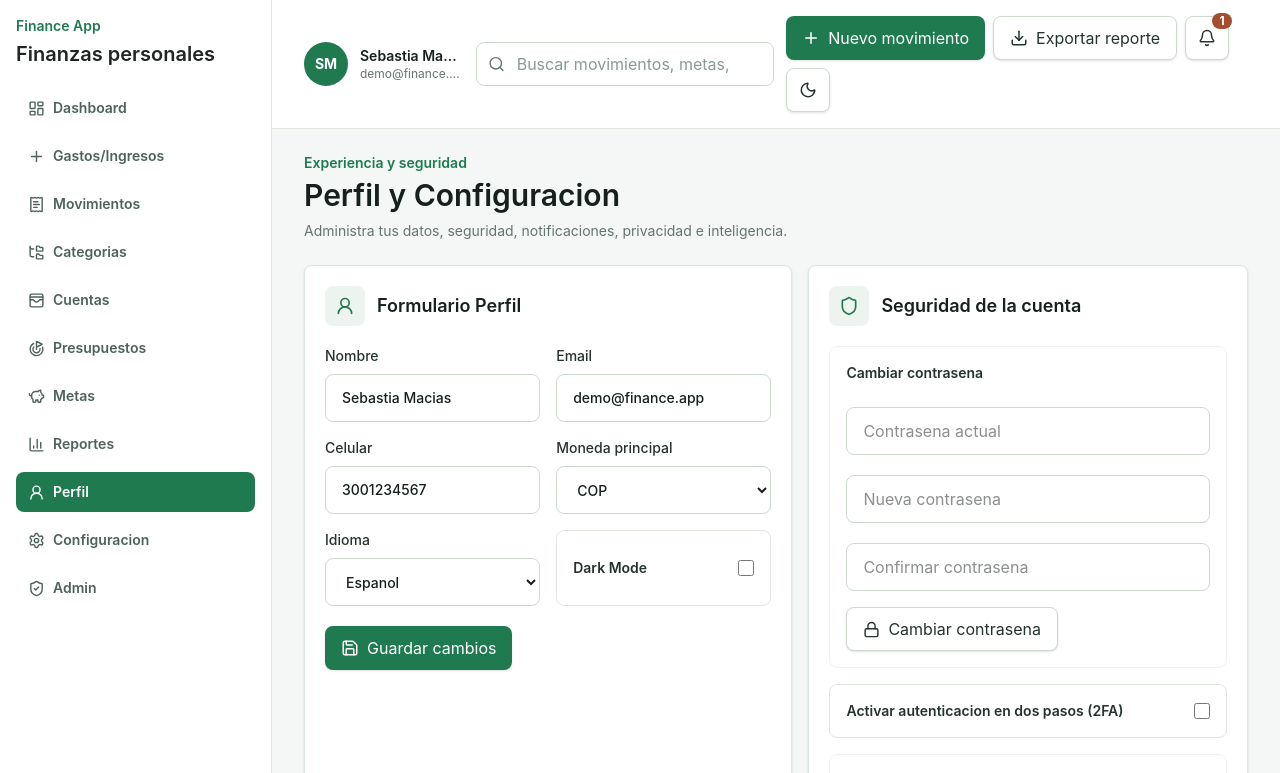
Test case: HU-05 Experiencia Configuracion e Inteligencia › permite ver perfil y guardar cambios basicos
expect the heading "Perfil y Configuracion" is shown: met, box x1=304 y1=177 x2=620 y2=213
Replace the text in the field labelled "Nombre" with "Sebastia Finanzas" at (433, 398), box x1=325 y1=374 x2=540 y2=422
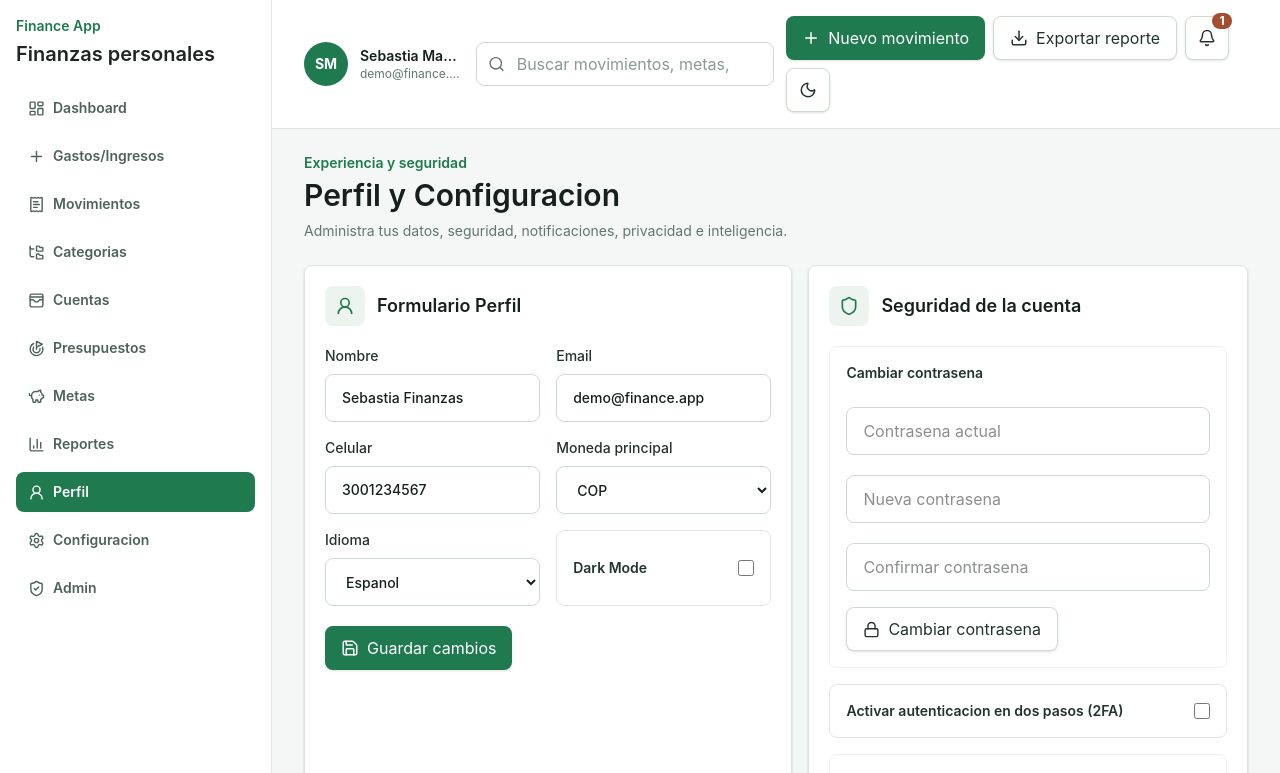
Click the button "Guardar cambios" at (419, 648), box x1=325 y1=626 x2=512 y2=670
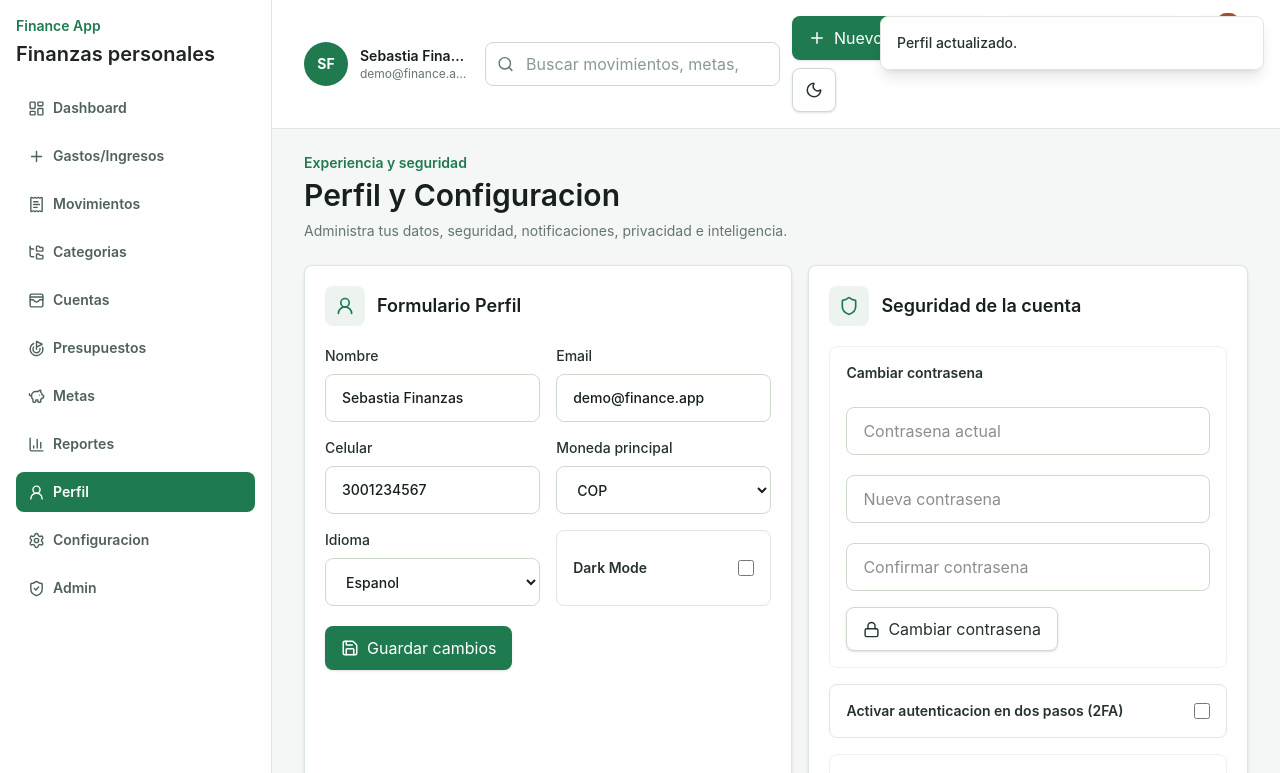
expect the text "Perfil actualizado." is shown: met, box x1=880 y1=16 x2=1264 y2=70
